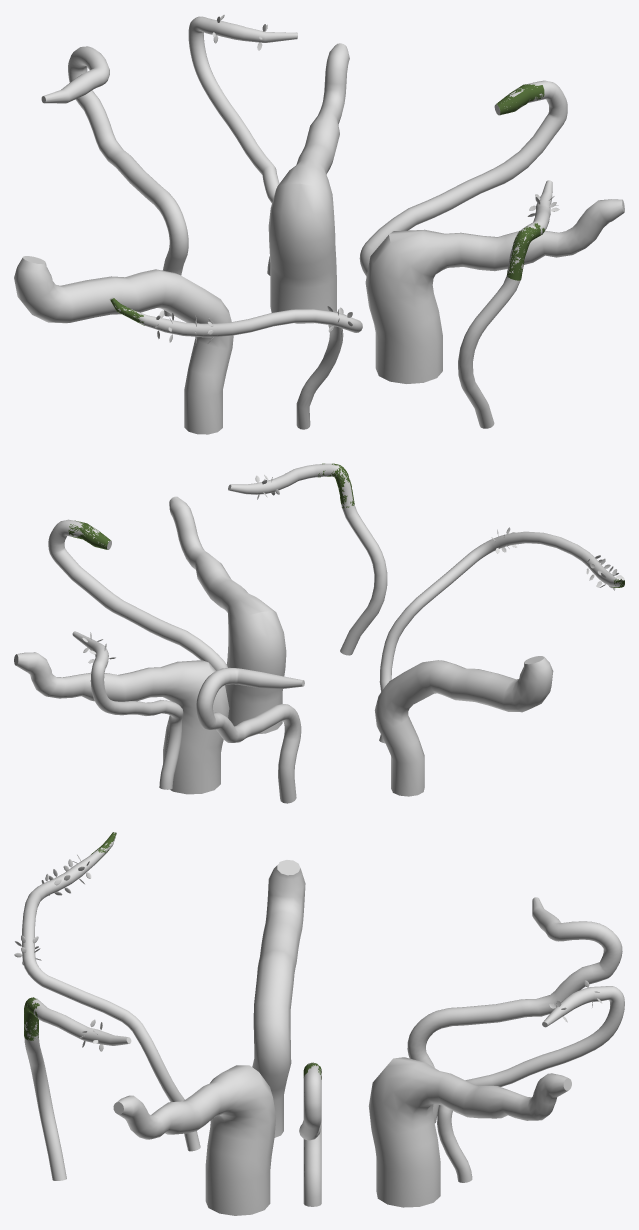
Rendered from LandingPadVinesNew.fbx.
The picture shows the model from 3 angles, top to bottom: view 1: azimuth 30°, elevation 25°; view 2: azimuth 150°, elevation 25°; view 3: azimuth 270°, elevation 25°; orthographic projection. The views are drawn at different scales.
Parts seen in each view (by area): view 1: LandingPadVine5, LandingPadVine1, LandingPadVine7, LandingPadVine6, LandingPadVine2, LandingPadVine3, LandingPadVine8, LandingPadVine4, LandingPadVine4Decal, LandingPadVine2Decal; view 2: LandingPadVine1, LandingPadVine7, LandingPadVine5, LandingPadVine6, LandingPadVine2, LandingPadVine3, LandingPadVine4, LandingPadVine8, LandingPadVine2Decal; view 3: LandingPadVine7, LandingPadVine5, LandingPadVine1, LandingPadVine6, LandingPadVine8, LandingPadVine3, LandingPadVine4, LandingPadVine2, LandingPadVine4Decal.
Part boxes in pixels (left/top/right/bottom): LandingPadVine5: left=365, top=199, right=624, bottom=383; LandingPadVine1: left=14, top=256, right=233, bottom=434; LandingPadVine7: left=268, top=43, right=349, bottom=323; LandingPadVine6: left=41, top=46, right=188, bottom=316; LandingPadVine2: left=359, top=80, right=567, bottom=276; LandingPadVine3: left=110, top=297, right=362, bottom=429; LandingPadVine8: left=188, top=16, right=297, bottom=275; LandingPadVine4: left=458, top=180, right=552, bottom=428; LandingPadVine4Decal: left=507, top=223, right=544, bottom=280; LandingPadVine2Decal: left=496, top=84, right=544, bottom=115; LandingPadVine1: left=374, top=656, right=553, bottom=796; LandingPadVine7: left=14, top=652, right=229, bottom=794; LandingPadVine5: left=169, top=496, right=286, bottom=734; LandingPadVine6: left=196, top=667, right=304, bottom=803; LandingPadVine2: left=48, top=519, right=227, bottom=686; LandingPadVine3: left=379, top=531, right=624, bottom=743; LandingPadVine4: left=228, top=463, right=387, bottom=655; LandingPadVine8: left=72, top=631, right=183, bottom=789; LandingPadVine2Decal: left=68, top=520, right=110, bottom=549; LandingPadVine7: left=368, top=1057, right=571, bottom=1207; LandingPadVine5: left=113, top=1065, right=276, bottom=1215; LandingPadVine1: left=252, top=860, right=305, bottom=1137; LandingPadVine6: left=407, top=897, right=622, bottom=1123; LandingPadVine8: left=437, top=986, right=624, bottom=1182; LandingPadVine3: left=22, top=832, right=200, bottom=1151; LandingPadVine4: left=24, top=998, right=131, bottom=1180; LandingPadVine2: left=299, top=1062, right=321, bottom=1206; LandingPadVine4Decal: left=24, top=997, right=39, bottom=1040.
Size of the model in its own units: 2173 by 902 by 2112.
